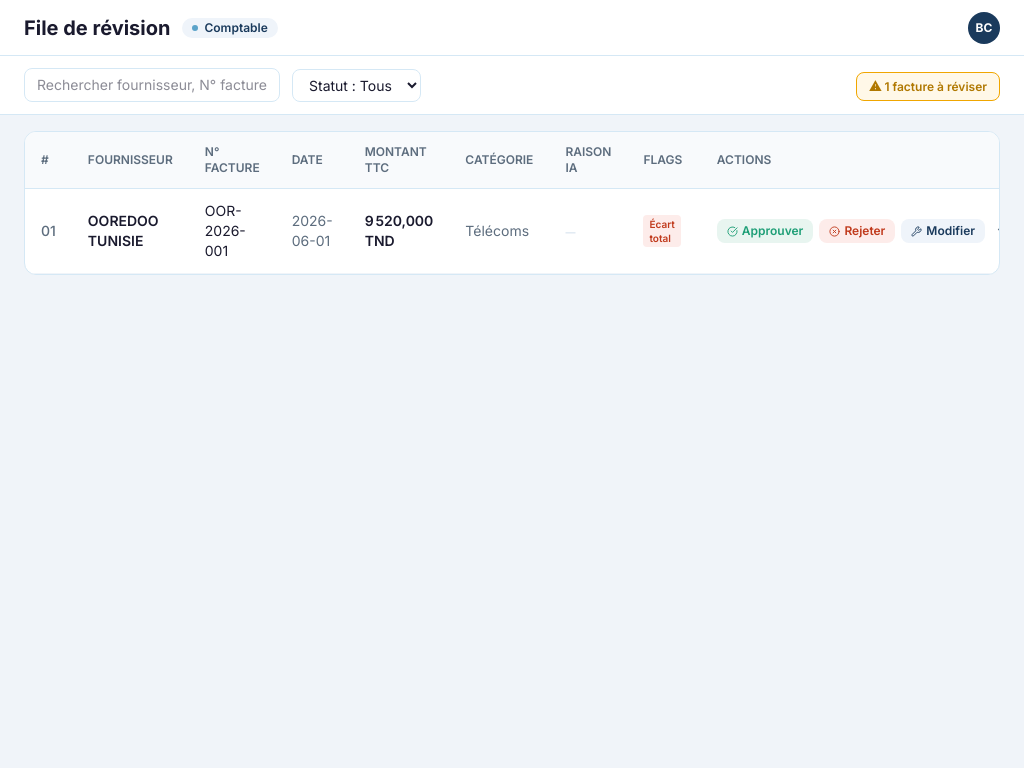
Scenario: ReviewQueue › keeps item in list when approve fails
Click the button "Approuver": {"x": 765, "y": 231} top-left (717, 219), bottom-right (813, 243)
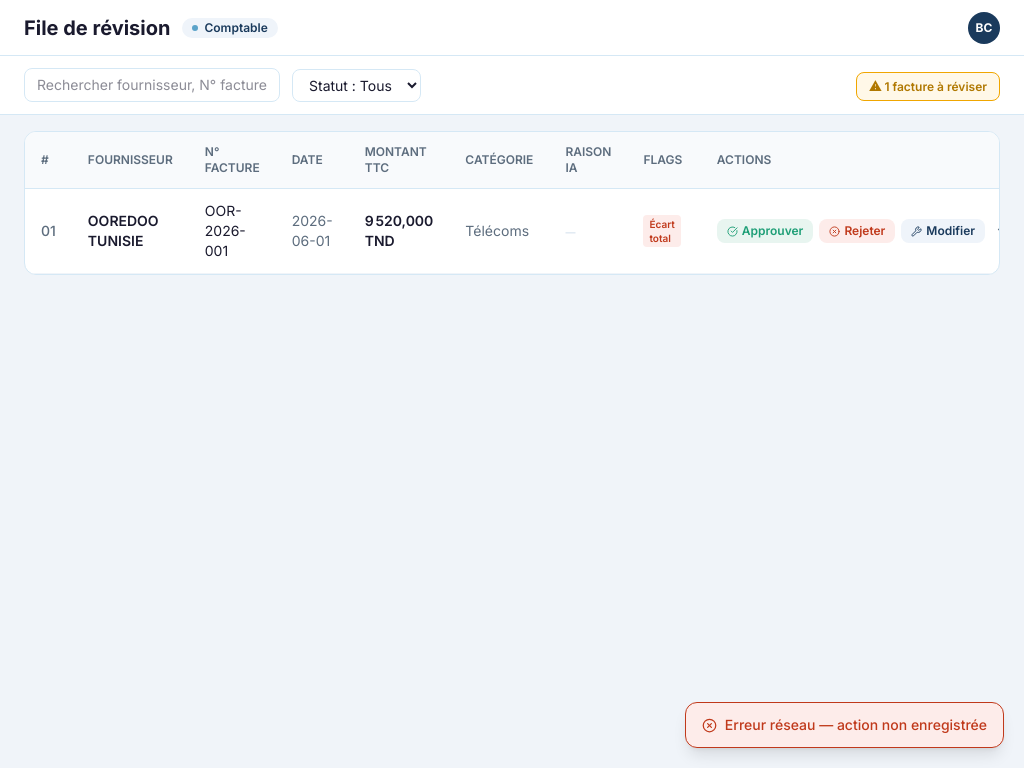
Check: the text "OOREDOO TUNISIE" is shown, box top-left (72, 188), bottom-right (189, 274)
Check: the text "Erreur réseau — action non enregistrée" is shown, box top-left (685, 702), bottom-right (1004, 748)
